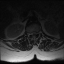CCS_normal: (33, 29, 35, 38)
LFS_normal: (36, 30, 38, 36)
LLS_normal: (35, 30, 37, 36)
RFS_normal: (29, 30, 31, 36)
RLS_normal: (31, 30, 33, 36)
